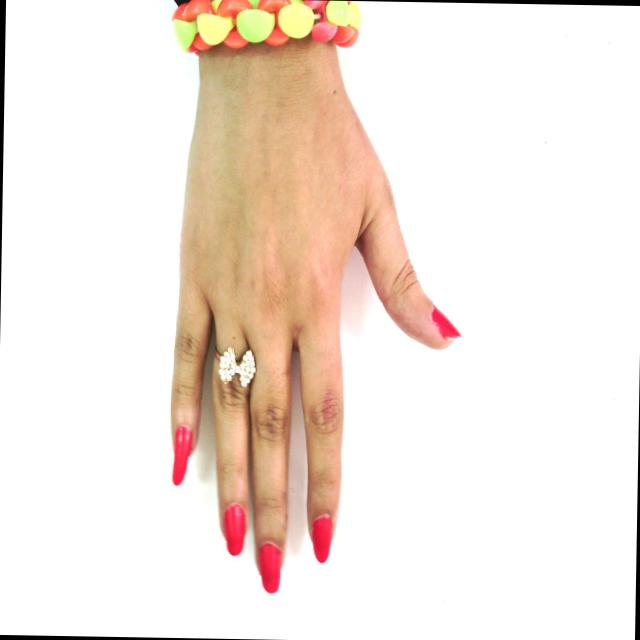Nail: (258, 543, 281, 594), (223, 504, 245, 556), (172, 426, 191, 485), (312, 514, 332, 563), (432, 305, 461, 338)
